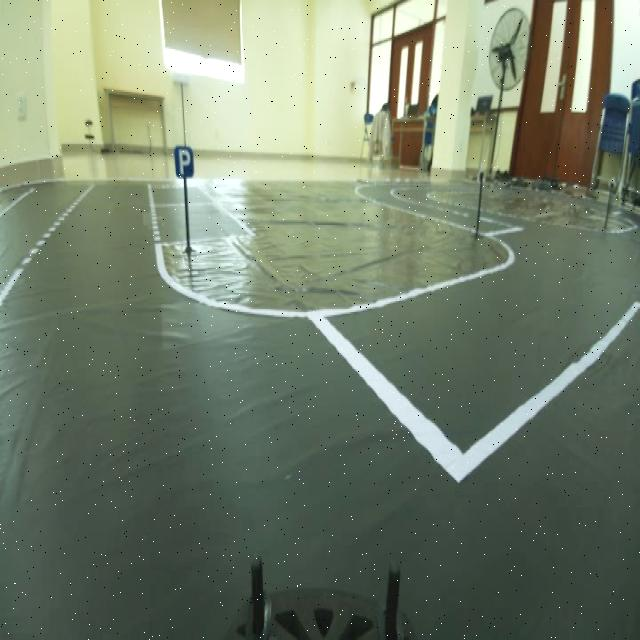parking: (172, 130, 201, 184)
